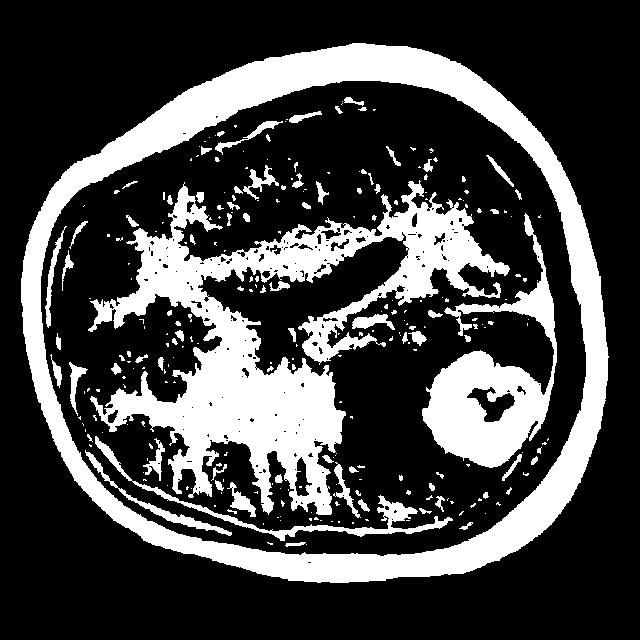Brain-Tumor: (398, 332, 558, 482)
